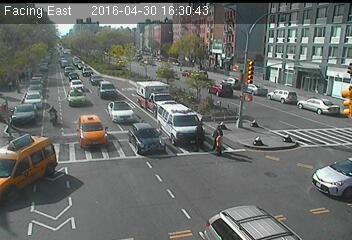neg: (71, 126, 104, 169), (269, 19, 293, 52), (115, 85, 139, 117), (14, 27, 37, 58), (308, 183, 331, 214), (140, 165, 163, 195), (301, 58, 322, 86), (42, 101, 62, 129), (274, 129, 293, 154), (209, 182, 227, 207), (175, 72, 192, 95), (242, 69, 258, 90), (78, 59, 93, 79), (250, 133, 263, 150)
pos: (212, 129, 230, 153)
